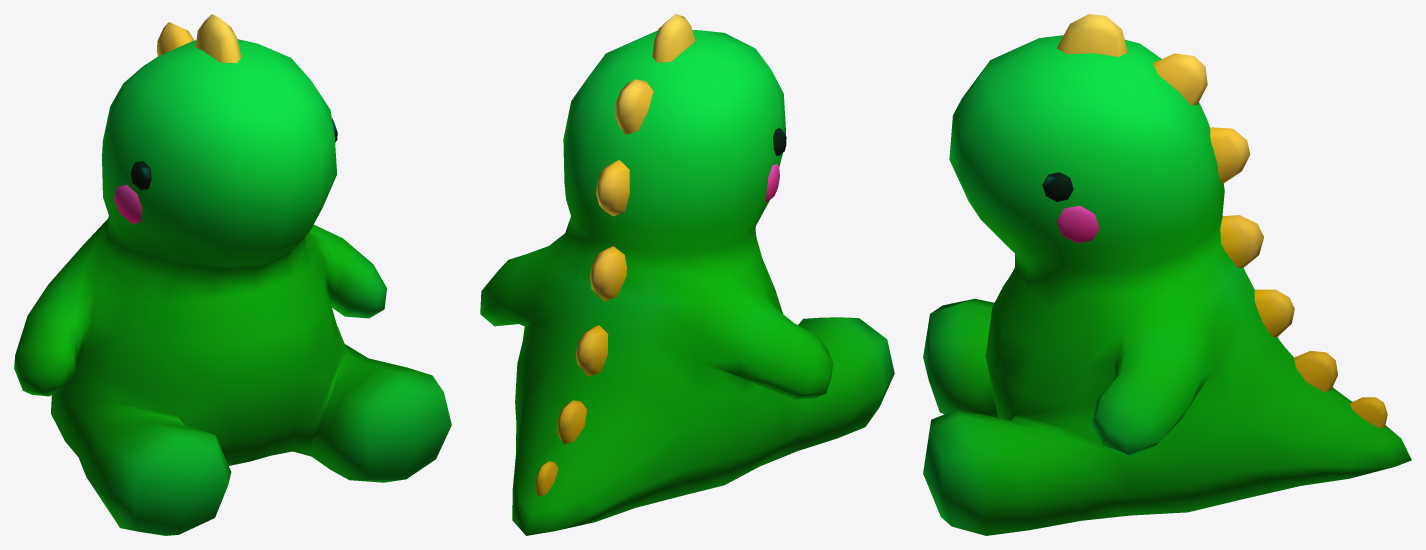
Rendered from dinosaur.fbx.
3 views of the same model, side by side, from view 1: azimuth 30°, elevation 25°; view 2: azimuth 150°, elevation 25°; view 3: azimuth 270°, elevation 25° (orthographic). The views are drawn at different scales.
Parts seen in each view (by area): view 1: dinosaur; view 2: dinosaur; view 3: dinosaur.
Part boxes in pixels (box(x1,y1,x2,y2)): dinosaur: box(14, 14, 451, 535); dinosaur: box(480, 14, 894, 535); dinosaur: box(923, 14, 1411, 535).
Bounding box in the file's own units: 17.61 × 21 × 20.09.
